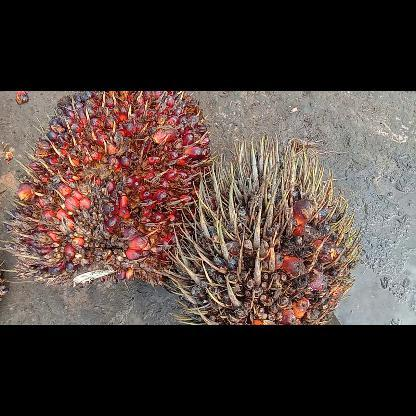TBS abnormal: (165, 134, 363, 324)
TBS masak: (1, 90, 215, 286)
